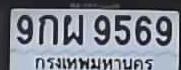5: (114, 14, 130, 44)
6: (135, 15, 150, 45)
9: (155, 15, 171, 45), (93, 14, 109, 44), (16, 14, 32, 43)
A01: (38, 14, 57, 44)
A28: (62, 14, 83, 44)
BKK: (33, 53, 157, 70)
